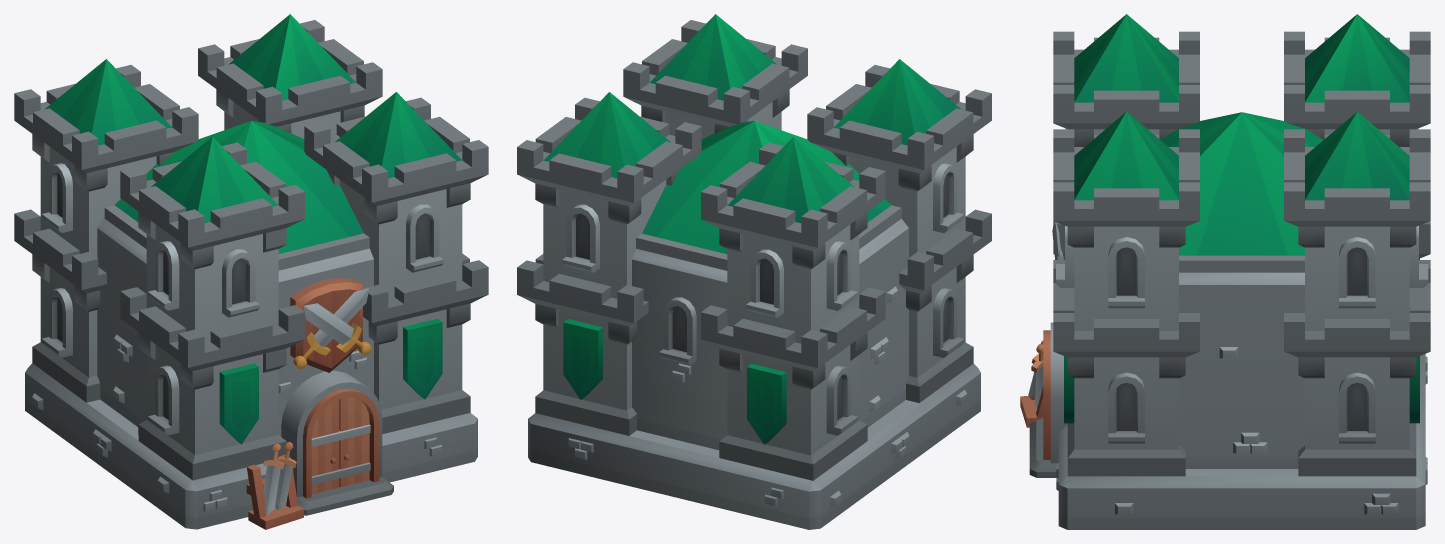
The model's file is barracks_green.glb.
3 views of the same model, side by side, from view 1: azimuth 30°, elevation 25°; view 2: azimuth 150°, elevation 25°; view 3: azimuth 270°, elevation 25° (orthographic). The views are drawn at different scales.
Visible parts, largest first — view 1: barracks_green; view 2: barracks_green; view 3: barracks_green.
Part boxes in pixels (box(x1,y1,x2,y2)): barracks_green: box(14, 14, 488, 529); barracks_green: box(517, 14, 991, 529); barracks_green: box(1020, 14, 1430, 529).
Bounding box in the file's own units: 0.72 × 0.82 × 0.783.
Materials: 1 (1 with a texture image).
